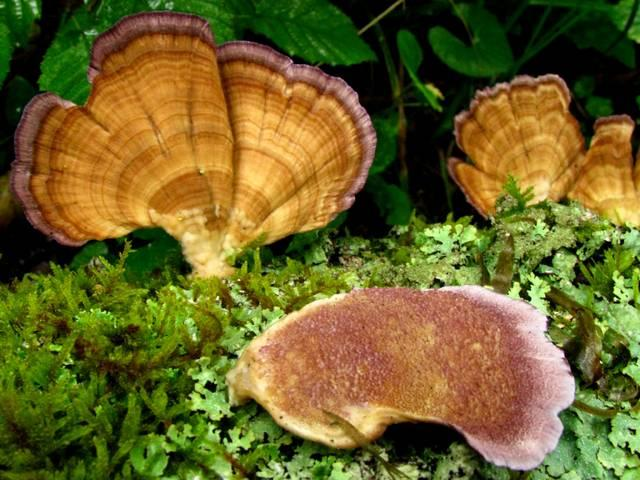poisonous_mushroom: (8, 9, 378, 280), (224, 282, 576, 471), (440, 69, 640, 243)
